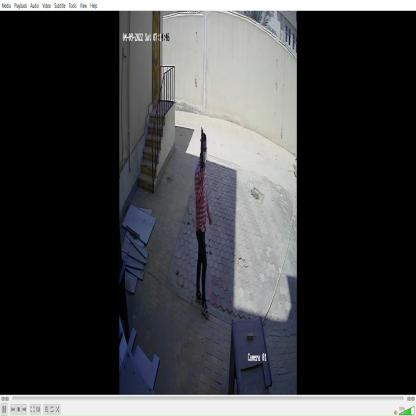handgun: (198, 124, 206, 193)
